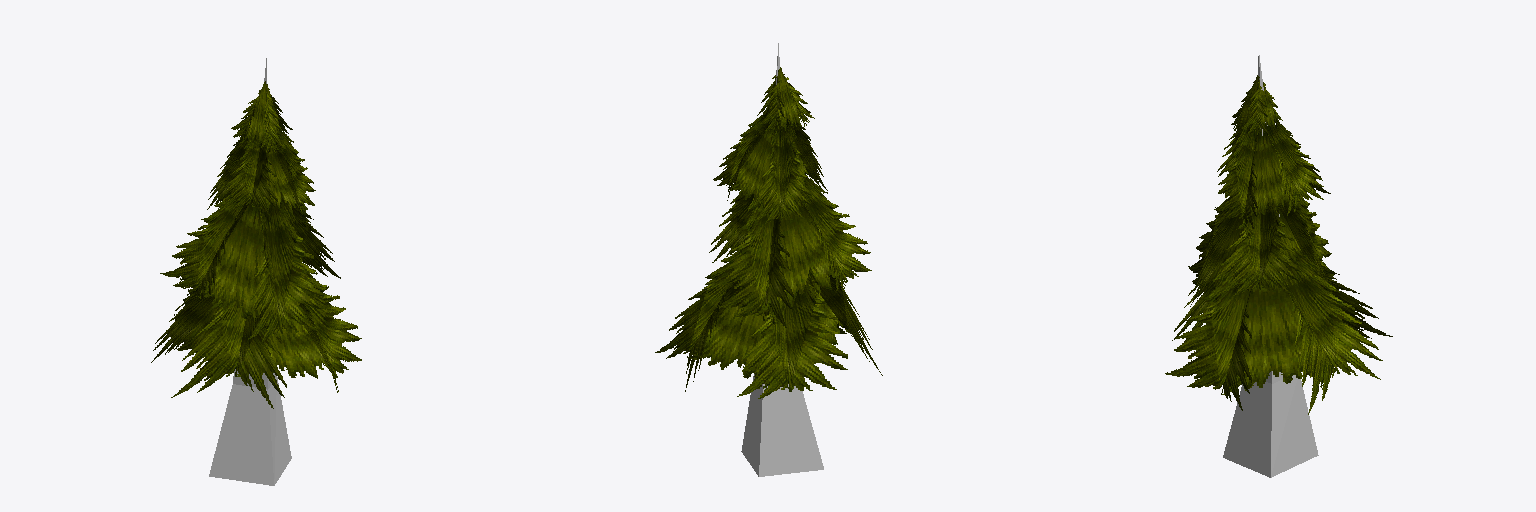
3 views of the same model, side by side, from view 1: azimuth 30°, elevation 25°; view 2: azimuth 150°, elevation 25°; view 3: azimuth 270°, elevation 25° (orthographic).
Parts seen in each view (by area): view 1: elwynnfirtree01.m2; view 2: elwynnfirtree01.m2; view 3: elwynnfirtree01.m2.
Boxes of the visible parts, x1=… form: elwynnfirtree01.m2: x1=151, y1=58, x2=361, y2=485; elwynnfirtree01.m2: x1=655, y1=43, x2=882, y2=476; elwynnfirtree01.m2: x1=1165, y1=55, x2=1392, y2=477.
Bounding box in the file's own units: 22.18 × 42.12 × 22.06.
2 materials, 1 textured.